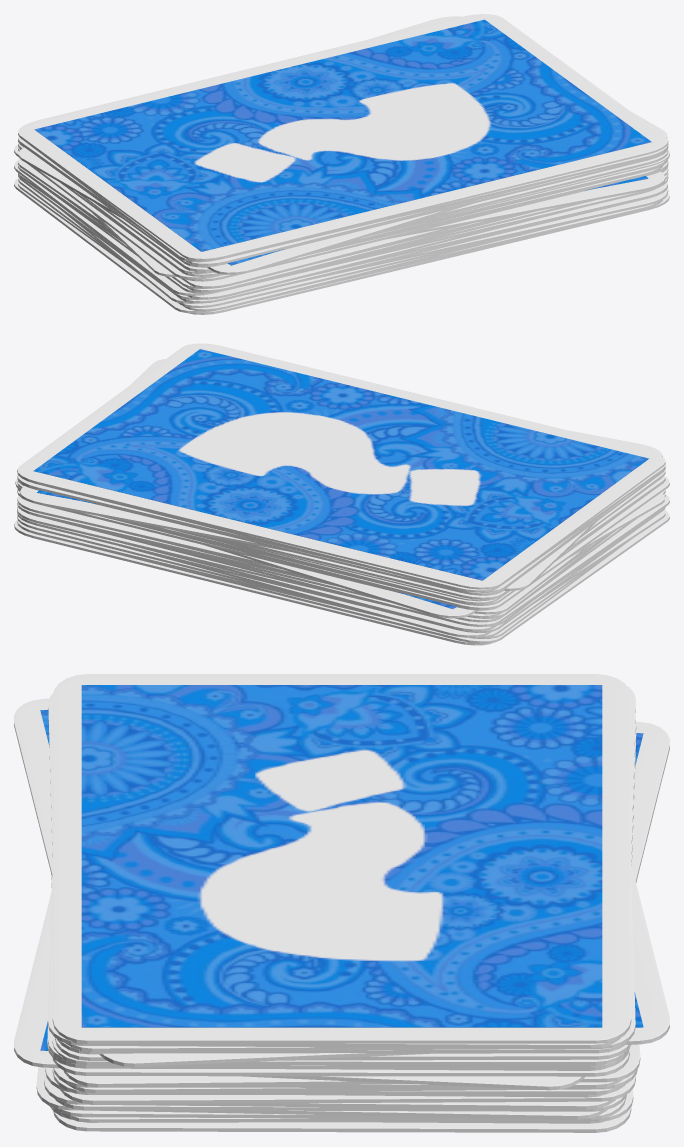
File: deck.fbx
3 views of the same model, one above another, from view 1: azimuth 30°, elevation 25°; view 2: azimuth 150°, elevation 25°; view 3: azimuth 270°, elevation 25° (orthographic). The views are drawn at different scales.
Visible parts, largest first — view 1: Куб.001; view 2: Куб.001; view 3: Куб.001.
Part boxes in pixels (x1=…): Куб.001: x1=14, y1=14, x2=669, y2=314; Куб.001: x1=14, y1=343, x2=669, y2=645; Куб.001: x1=14, y1=674, x2=669, y2=1132.
Bounding box in the file's own units: 634 × 69.52 × 454.
